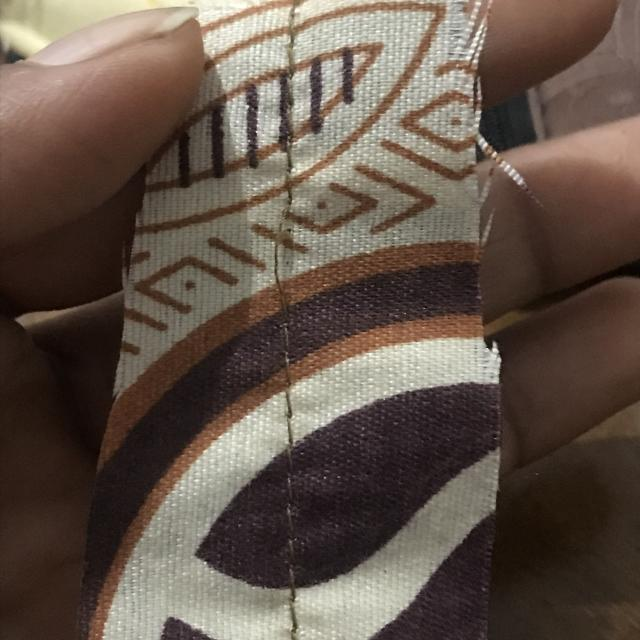good: (272, 407, 320, 583)
skip: (242, 183, 306, 344)
